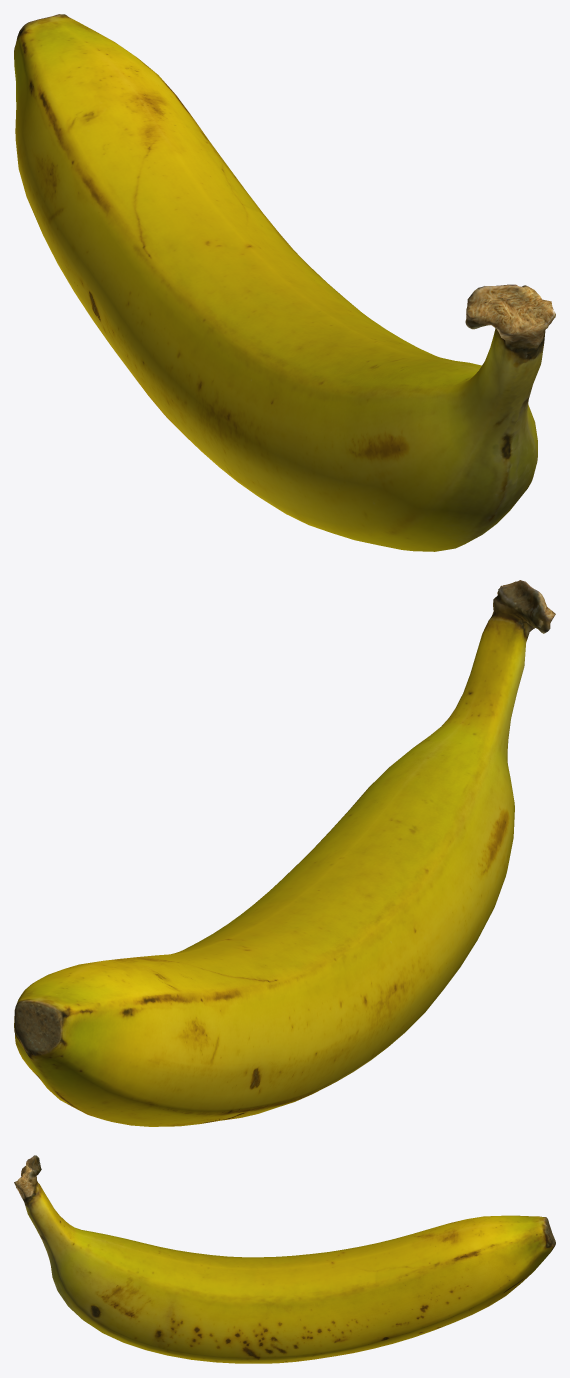
The model's file is Banana.fbx.
The picture shows the model from 3 angles, top to bottom: view 1: azimuth 30°, elevation 25°; view 2: azimuth 150°, elevation 25°; view 3: azimuth 270°, elevation 25°; orthographic projection. The views are drawn at different scales.
Parts seen in each view (by area): view 1: banana; view 2: banana; view 3: banana.
Part boxes in pixels (box(x1,y1,x2,y2)): banana: box(14, 14, 555, 551); banana: box(14, 580, 555, 1126); banana: box(14, 1155, 555, 1363).
Size of the model in its own units: 114 by 234 by 584.
1 material, 1 textured.
